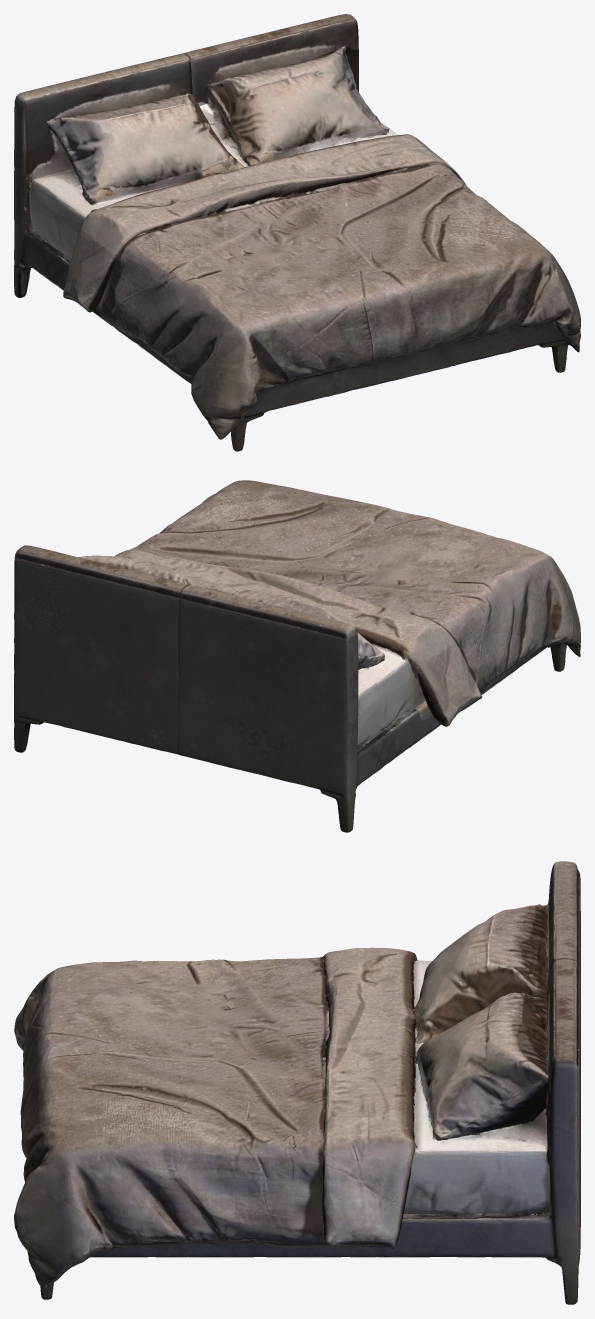
Rendered from bed.glb.
The picture shows the model from 3 angles, top to bottom: view 1: azimuth 30°, elevation 25°; view 2: azimuth 150°, elevation 25°; view 3: azimuth 270°, elevation 25°; orthographic projection. The views are drawn at different scales.
Parts seen in each view (by area): view 1: world; view 2: world; view 3: world.
Part boxes in pixels (bbox=[...]): world: bbox=[14, 14, 580, 451]; world: bbox=[14, 480, 580, 832]; world: bbox=[14, 861, 580, 1304].
Size of the model in its own units: 1.99 by 0.9631 by 1.99.
1 material, 1 textured.
